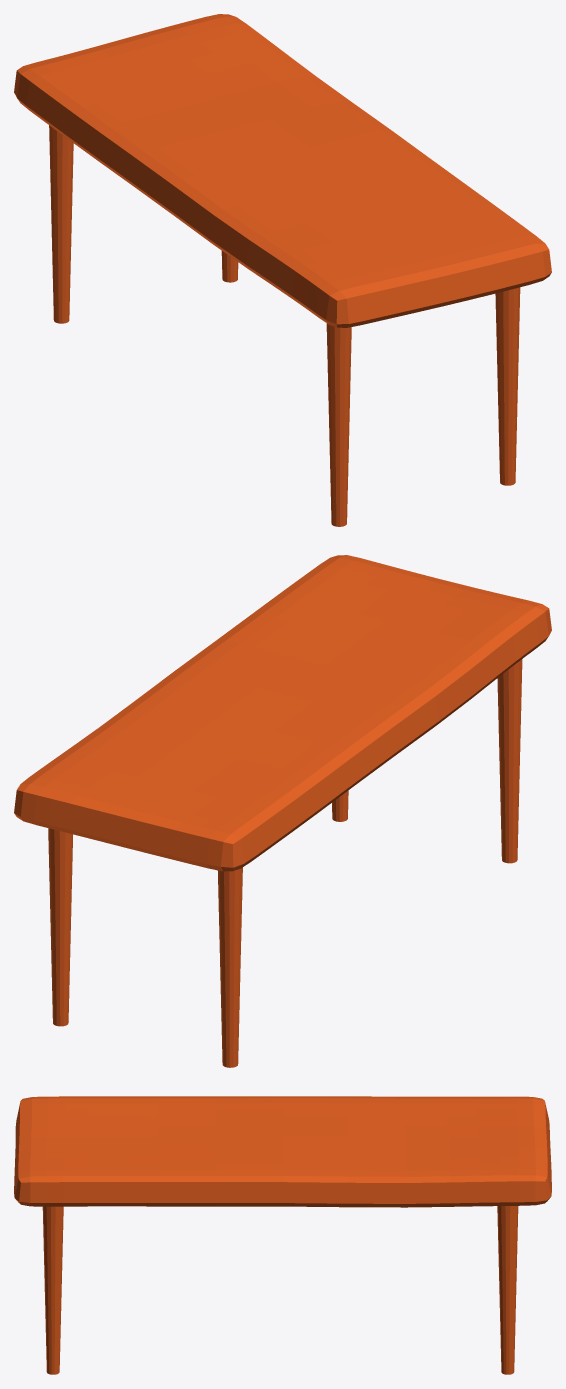
Rendered from стол.obj.
3 renders of one model, top to bottom at view 1: azimuth 30°, elevation 25°; view 2: azimuth 150°, elevation 25°; view 3: azimuth 270°, elevation 25°, orthographic. The views are drawn at different scales.
Parts seen in each view (by area): view 1: Cube.002, Cylinder.004, Cylinder, Cylinder.005; view 2: Cube.002, Cylinder.005, Cylinder.006, Cylinder.004; view 3: Cube.002, Cylinder, Cylinder.006.
Part boxes in pixels (bbox=[...]): Cube.002: bbox=[14, 14, 551, 327]; Cylinder.004: bbox=[326, 323, 351, 526]; Cylinder: bbox=[495, 287, 520, 485]; Cylinder.005: bbox=[49, 125, 73, 323]; Cube.002: bbox=[14, 555, 551, 871]; Cylinder.005: bbox=[217, 867, 242, 1067]; Cylinder.006: bbox=[48, 828, 72, 1026]; Cylinder.004: bbox=[497, 659, 522, 863]; Cube.002: bbox=[14, 1096, 551, 1207]; Cylinder: bbox=[42, 1206, 63, 1374]; Cylinder.006: bbox=[497, 1206, 518, 1374].
Size of the model in its own units: 1.19 by 1.24 by 3.
